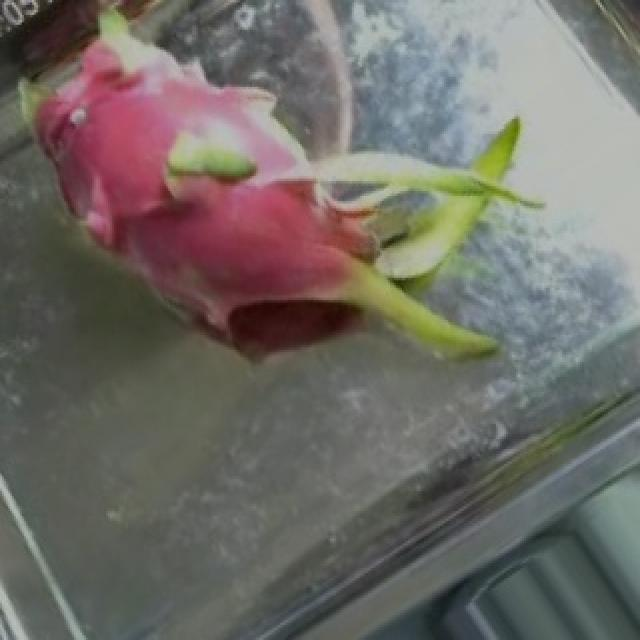fruit: (176, 7, 604, 464), (0, 0, 364, 417)
